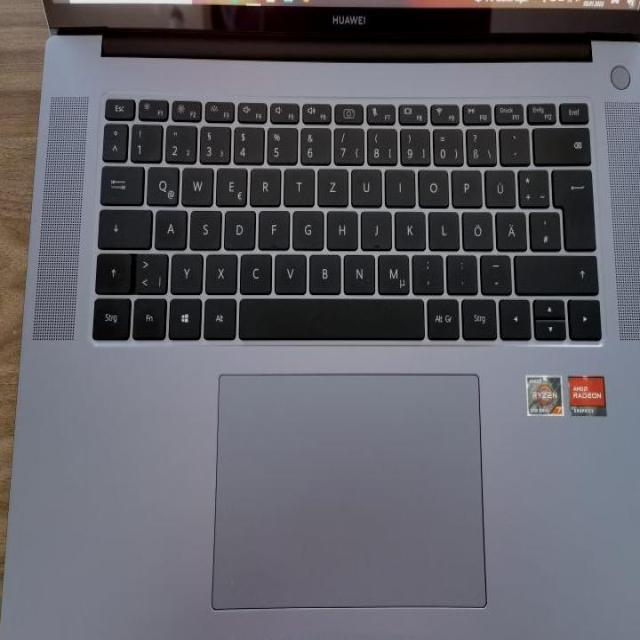0: (431, 123, 462, 164)
1: (128, 120, 161, 160)
2: (163, 121, 195, 160)
3: (197, 121, 229, 161)
4: (231, 122, 262, 161)
5: (264, 123, 296, 161)
6: (298, 123, 329, 161)
7: (332, 124, 363, 163)
8: (365, 124, 395, 163)
9: (398, 124, 429, 163)
a: (152, 205, 186, 247)
accent: (497, 124, 528, 163)
ae: (494, 207, 526, 248)
alt-left: (201, 294, 235, 337)
altgr-right: (425, 294, 458, 337)
b: (307, 250, 340, 292)
c: (238, 249, 271, 291)
caret: (101, 120, 127, 159)
comma: (410, 249, 442, 291)
d: (222, 206, 255, 248)
del: (531, 124, 589, 163)
e: (214, 162, 246, 204)
enter: (549, 164, 594, 248)
f: (256, 206, 288, 247)
g: (290, 206, 323, 248)
h: (325, 206, 357, 248)
hash: (527, 206, 559, 248)
i: (382, 165, 414, 204)
j: (358, 206, 390, 248)
k: (392, 206, 425, 248)
keyboard: (86, 93, 614, 350)
l: (426, 206, 458, 248)
less: (132, 248, 166, 290)
m: (375, 250, 408, 292)
minus: (478, 250, 510, 292)
n: (342, 249, 375, 291)
o: (416, 165, 448, 205)
oe: (460, 207, 492, 249)
p: (449, 166, 481, 205)
plus: (516, 165, 547, 205)
point: (444, 250, 476, 290)
q: (144, 161, 178, 204)
r: (247, 163, 279, 204)
s: (188, 206, 220, 248)
shift-left: (92, 249, 130, 290)
shift-lock: (95, 204, 150, 246)
shift-right: (512, 250, 596, 292)
space: (236, 293, 423, 337)
ss: (463, 125, 495, 164)
strg-left: (89, 293, 129, 338)
strg-right: (459, 294, 495, 337)
t: (282, 163, 313, 204)
tab: (98, 161, 142, 203)
u: (349, 165, 381, 205)
ue: (483, 166, 514, 205)
v: (272, 249, 306, 291)
w: (180, 162, 212, 204)
x: (204, 250, 237, 292)
y: (168, 249, 201, 291)
z: (315, 163, 348, 204)
